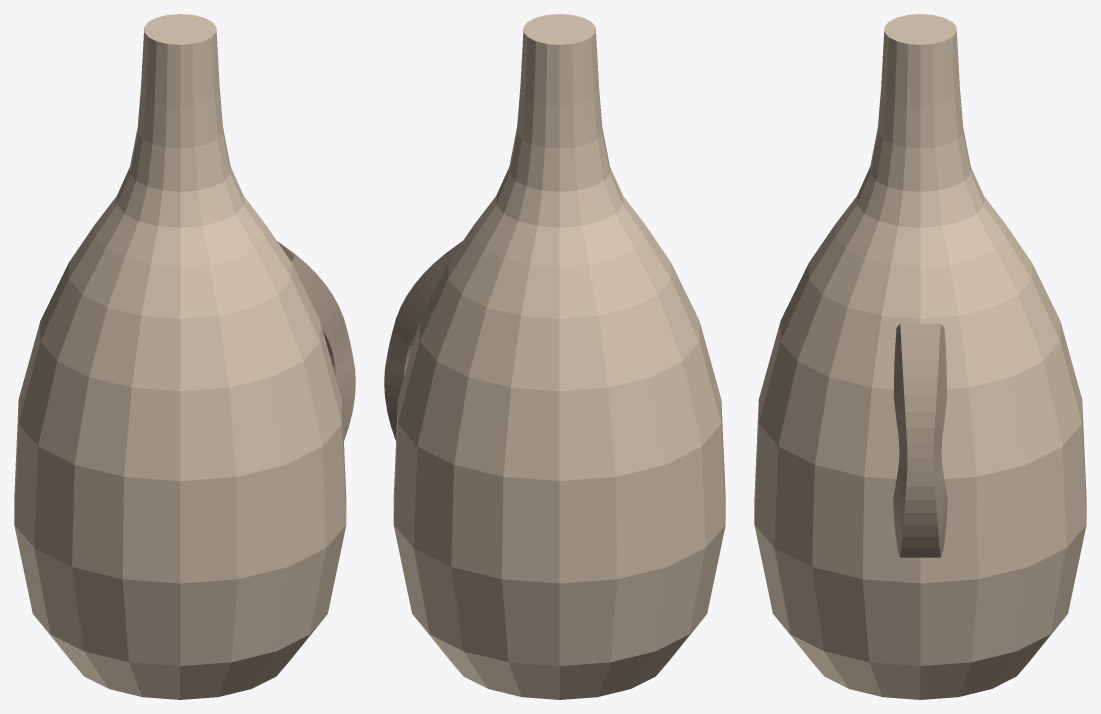
The model's file is grotto_clay_jug_amphora_LOD0_roblox.fbx.
The picture shows the model from 3 angles, left to right: view 1: azimuth 30°, elevation 25°; view 2: azimuth 150°, elevation 25°; view 3: azimuth 270°, elevation 25°; orthographic projection.
Visible parts, largest first — view 1: amph_Body, amph_Handle; view 2: amph_Body, amph_Handle; view 3: amph_Body, amph_Handle.
Part boxes in pixels (box(x1,y1,x2,y2)): amph_Body: box(14, 14, 346, 699); amph_Handle: box(277, 241, 355, 440); amph_Body: box(393, 14, 725, 699); amph_Handle: box(384, 241, 462, 440); amph_Body: box(754, 14, 1086, 699); amph_Handle: box(893, 323, 947, 557).
Size of the model in its own units: 0.3266 by 0.2994 by 0.62.
